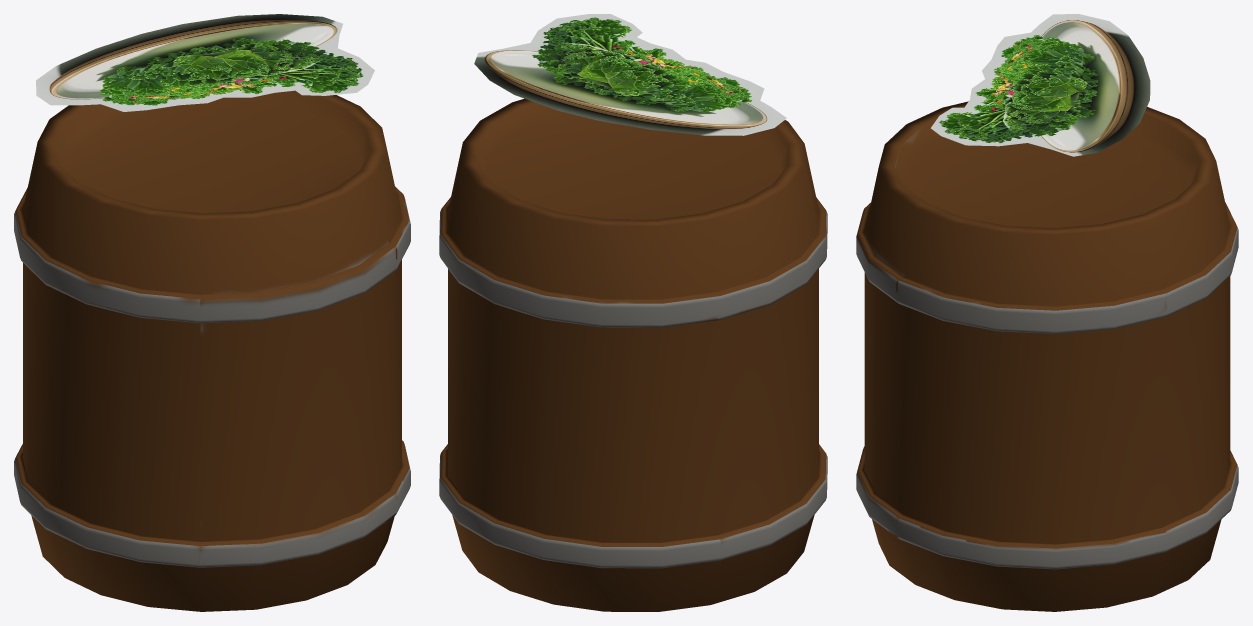
The model's file is Ingredientes_4_HojasdeLobo.fbx.
3 renders of one model, left to right at view 1: azimuth 30°, elevation 25°; view 2: azimuth 150°, elevation 25°; view 3: azimuth 270°, elevation 25°, orthographic. The views are drawn at different scales.
Visible parts, largest first — view 1: Barril_mesh, MK_Ingredientes_4_HojasdeLobo; view 2: Barril_mesh, MK_Ingredientes_4_HojasdeLobo; view 3: Barril_mesh, MK_Ingredientes_4_HojasdeLobo.
Boxes of the visible parts, x1=… form: Barril_mesh: x1=14, y1=90, x2=410, y2=611; MK_Ingredientes_4_HojasdeLobo: x1=36, y1=14, x2=374, y2=111; Barril_mesh: x1=439, y1=98, x2=827, y2=611; MK_Ingredientes_4_HojasdeLobo: x1=474, y1=14, x2=786, y2=135; Barril_mesh: x1=856, y1=101, x2=1238, y2=611; MK_Ingredientes_4_HojasdeLobo: x1=931, y1=14, x2=1150, y2=156.
Size of the model in its own units: 1.84 by 2.4 by 1.84.
2 materials, 2 textured.
